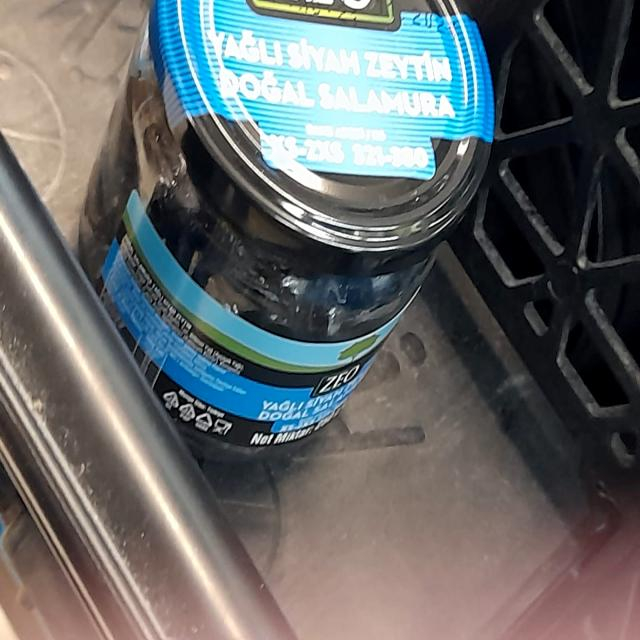olive: (72, 0, 506, 476)
